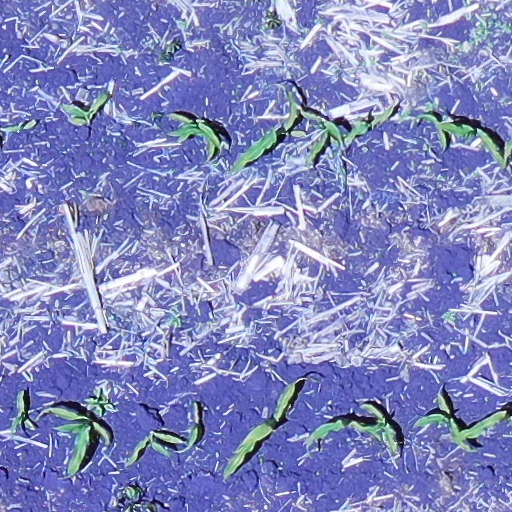planta: (224, 383, 295, 476), (230, 93, 306, 176), (415, 394, 474, 451), (438, 121, 507, 167), (45, 406, 91, 475), (299, 107, 342, 168), (340, 103, 398, 144), (171, 113, 221, 158), (306, 418, 383, 443), (362, 402, 398, 455), (127, 432, 180, 463), (61, 93, 111, 124), (9, 393, 34, 437)
